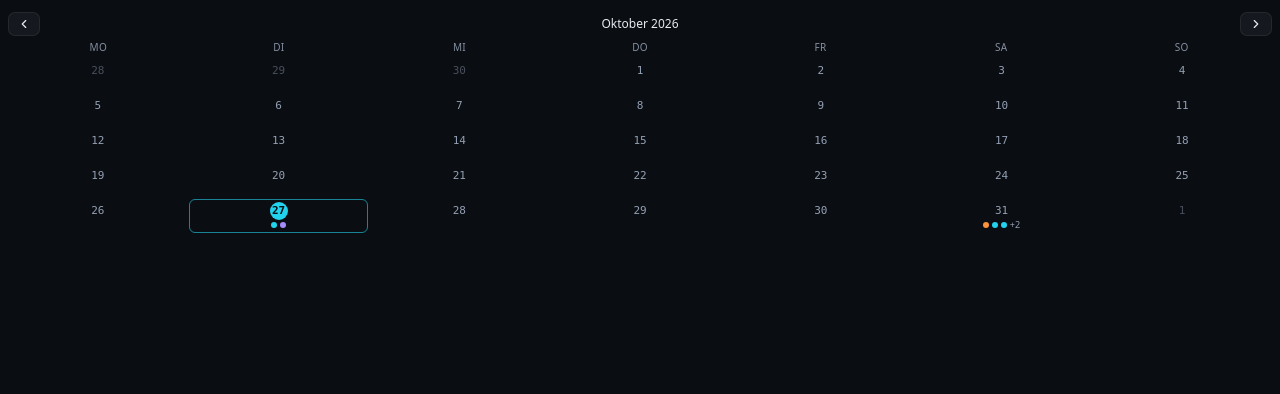
Scenario: the month › shows the entries of the day that is clicked, and hides them when it is clicked again
Click the button "31 +2" at (1001, 216), box x1=912 y1=198 x2=1091 y2=232
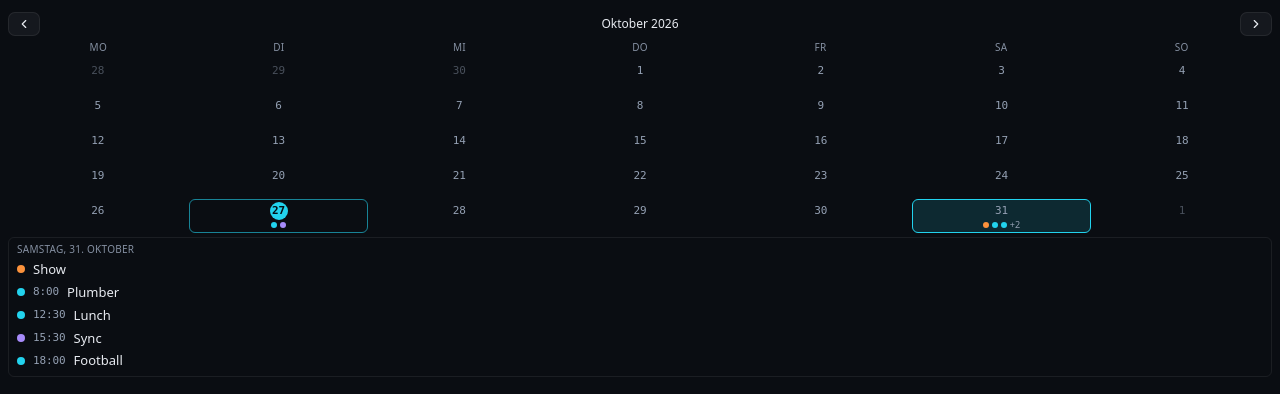
Expected: the element with test id "calendar-picked" shows "Plumber", x1=67 y1=283 x2=119 y2=301
Expected: the element with test id "calendar-picked" shows "Show", x1=33 y1=260 x2=66 y2=278
Click the button "31 +2" at (1001, 216), box x1=912 y1=198 x2=1091 y2=232
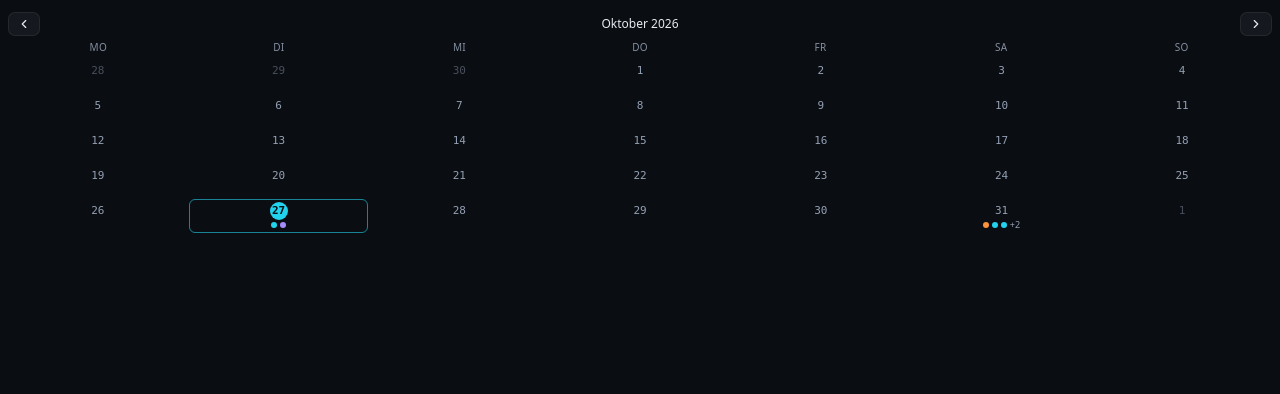
Expected: the element with test id "calendar-picked" is gone
